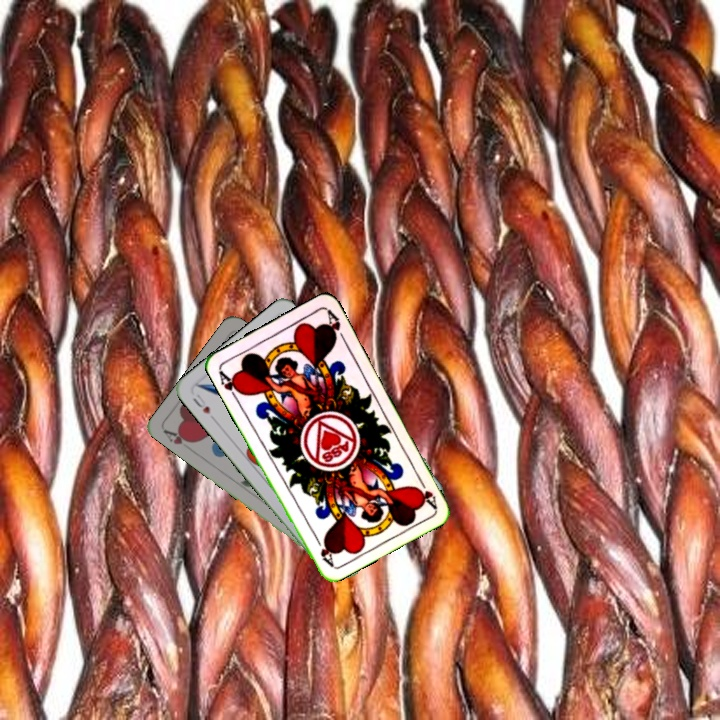HA: (214, 366, 246, 403), (411, 472, 439, 511), (159, 425, 198, 447)
HU: (189, 390, 213, 417)
